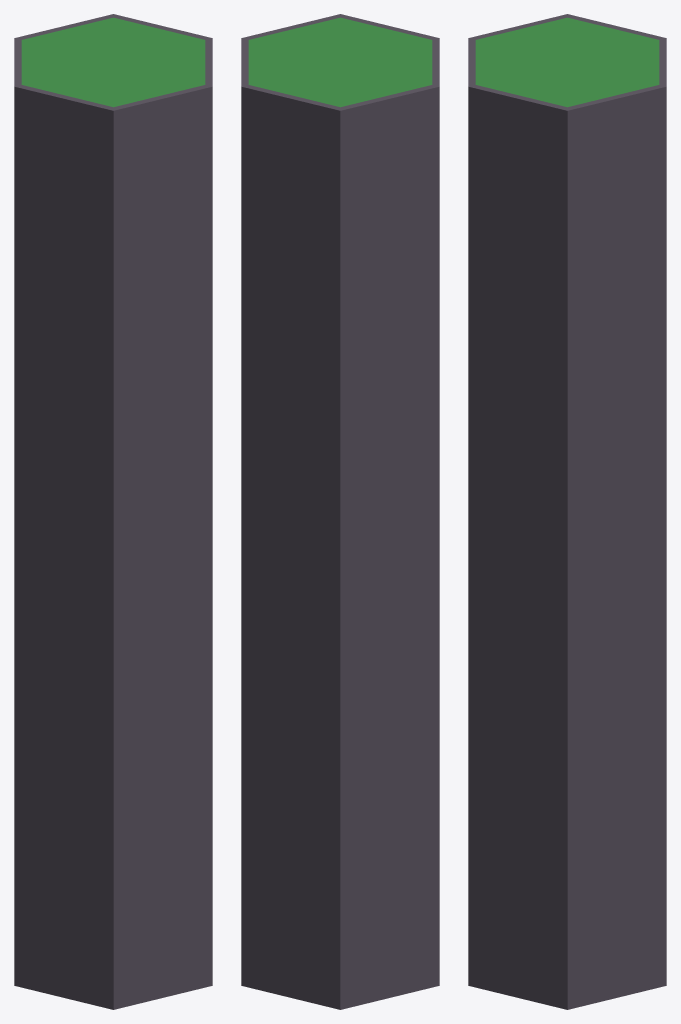
The model's file is BaseTile.obj.
The picture shows the model from 3 angles, left to right: view 1: azimuth 30°, elevation 25°; view 2: azimuth 150°, elevation 25°; view 3: azimuth 270°, elevation 25°; orthographic projection.
Visible parts, largest first — view 1: BaseTile; view 2: BaseTile; view 3: BaseTile.
Boxes of the visible parts, left/top/right/bottom form: BaseTile: left=14, top=14, right=212, bottom=1009; BaseTile: left=241, top=14, right=439, bottom=1009; BaseTile: left=468, top=14, right=666, bottom=1009.
Size of the model in its own units: 11.55 by 50 by 10.
